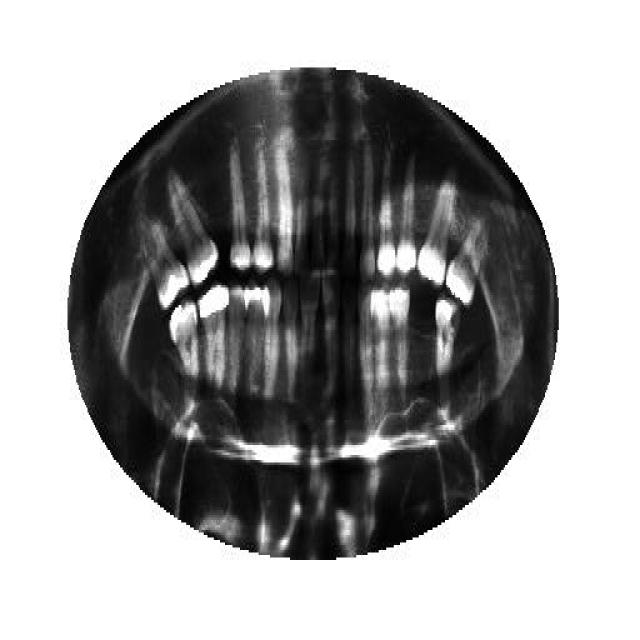Fillings: (169, 173, 219, 285), (142, 212, 188, 310), (196, 285, 232, 400)
